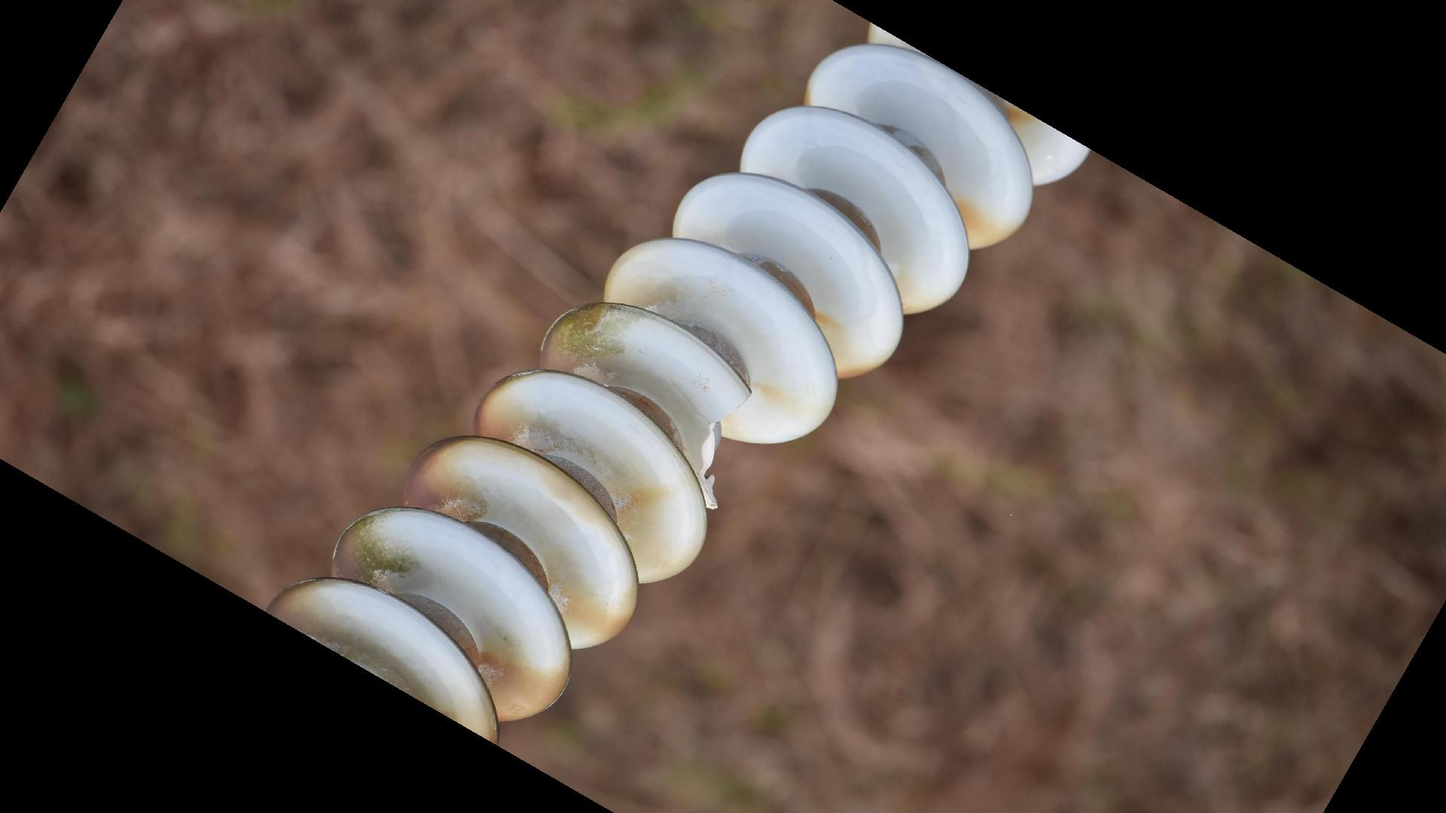insulator: (261, 21, 1088, 753)
insulator_breakage: (696, 379, 759, 516)
